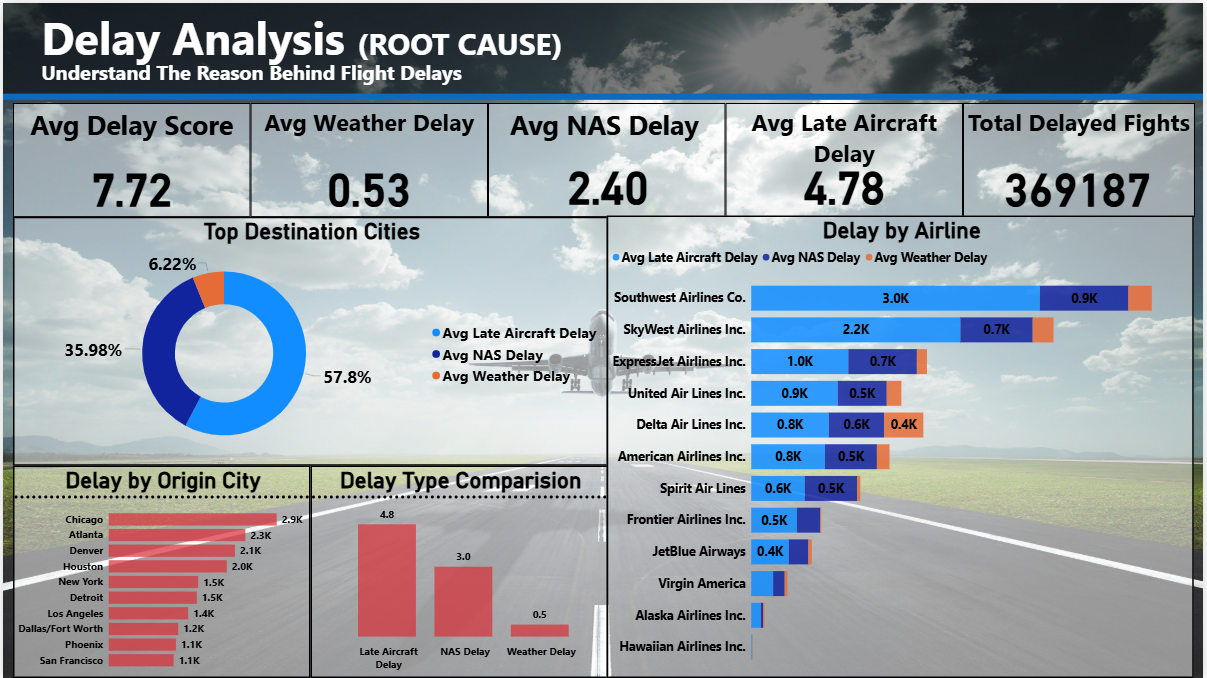

The dashboard page shown, as its layout file describes it:
{"tool":"powerbi","page":{"name":"Delay Analysis (Root Cause)","canvas":[1920,1080],"ordinal":3},"visuals":[{"type":"textbox","box":[0,0,1920,148],"z":0},{"type":"shape","box":[0,139.3,1920.1,19.9],"z":1000},{"type":"textbox","box":[56.1,0,1027.9,117.6],"z":2000},{"type":"actionButton","box":[16.3,159.3,380,182.8],"z":3000},{"type":"textbox","box":[16.3,159.3,380,74.2],"z":4000},{"type":"card","fields":{"Values":["Avg(airline vw_flight_analysis.Delay Score (Overall))"]},"box":[16.3,233.4,380,108.6],"z":5000},{"type":"textbox","box":[56.1,83.2,1080.4,65.1],"z":6000},{"type":"clusteredBarChart","title":"Delay by Origin City","fields":{"Category":["airline vw_flight_analysis.OriginCity"],"Y":["Sum(airline vw_flight_analysis.Delay Score (Overall))"]},"box":[16.3,740.2,475.9,340.2],"z":7000},{"type":"clusteredColumnChart","title":"Delay Type Comparision","fields":{"Category":["DelayTypeTable.DelayType"],"Y":["DelayTypeTable.Delay Value"]},"box":[492.2,740.2,475.9,340.2],"z":8000},{"type":"actionButton","box":[1536.4,159.3,371,182.8],"z":11000},{"type":"actionButton","box":[1156.4,159.3,380,182.8],"z":12000},{"type":"actionButton","box":[776.3,159.3,380,182.8],"z":13000},{"type":"actionButton","box":[396.3,159.3,380,182.8],"z":14000},{"type":"textbox","box":[1536.4,159.3,371,110.4],"z":15000},{"type":"textbox","box":[778.2,159.3,380,74.2],"z":16000},{"type":"textbox","box":[1156.4,159.3,380,110.4],"z":17000},{"type":"textbox","box":[396.3,159.3,380,74.2],"z":18000},{"type":"card","fields":{"Values":["Sum(airline vw_flight_analysis.TotalFlights)"]},"box":[1532.8,233.4,374.6,108.6],"z":18001},{"type":"card","fields":{"Values":["Avg(airline vw_flight_analysis.AvgLateAircraftDelay)"]},"box":[1156.4,231.6,380,108.6],"z":18002},{"type":"card","fields":{"Values":["Avg(airline vw_flight_analysis.AvgNASDelay)"]},"box":[778.2,231.6,380,108.6],"z":18003},{"type":"card","fields":{"Values":["Avg(airline vw_flight_analysis.AvgWeatherDelay)"]},"box":[396.3,233.4,380,108.6],"z":18004},{"type":"donutChart","title":"Top Destination Cities","fields":{"Y":["Sum(airline vw_flight_analysis.AvgLateAircraftDelay)","Sum(airline vw_flight_analysis.AvgNASDelay)","Sum(airline vw_flight_analysis.AvgWeatherDelay)"]},"box":[16.3,342,951.9,398.1],"z":18005},{"type":"barChart","title":"Delay by Airline","fields":{"Y":["Sum(airline vw_flight_analysis.AvgLateAircraftDelay)","Sum(airline vw_flight_analysis.AvgNASDelay)","Sum(airline vw_flight_analysis.AvgWeatherDelay)"],"Category":["airline vw_flight_analysis.AirlineName"]},"box":[966.4,340.2,939.2,740.2],"z":18006}]}

Visuals, with their boxes in screenshot pixels (x1, y1, x2, y2), scaled from the page's 1920x1080 canvas onto the 1207x678 screenshot:
textbox: <bbox>0, 0, 1206, 93</bbox>
shape: <bbox>0, 87, 1206, 100</bbox>
textbox: <bbox>35, 0, 681, 74</bbox>
actionButton: <bbox>10, 100, 249, 215</bbox>
textbox: <bbox>10, 100, 249, 147</bbox>
card - Avg(airline vw_flight_analysis.Delay Score (Overall)): <bbox>10, 147, 249, 215</bbox>
textbox: <bbox>35, 52, 714, 93</bbox>
"Delay by Origin City" clusteredBarChart: <bbox>10, 465, 309, 677</bbox>
"Delay Type Comparision" clusteredColumnChart: <bbox>309, 465, 609, 677</bbox>
actionButton: <bbox>966, 100, 1199, 215</bbox>
actionButton: <bbox>727, 100, 966, 215</bbox>
actionButton: <bbox>488, 100, 727, 215</bbox>
actionButton: <bbox>249, 100, 488, 215</bbox>
textbox: <bbox>966, 100, 1199, 169</bbox>
textbox: <bbox>489, 100, 728, 147</bbox>
textbox: <bbox>727, 100, 966, 169</bbox>
textbox: <bbox>249, 100, 488, 147</bbox>
card - Sum(airline vw_flight_analysis.TotalFlights): <bbox>964, 147, 1199, 215</bbox>
card - Avg(airline vw_flight_analysis.AvgLateAircraftDelay): <bbox>727, 145, 966, 214</bbox>
card - Avg(airline vw_flight_analysis.AvgNASDelay): <bbox>489, 145, 728, 214</bbox>
card - Avg(airline vw_flight_analysis.AvgWeatherDelay): <bbox>249, 147, 488, 215</bbox>
"Top Destination Cities" donutChart: <bbox>10, 215, 609, 465</bbox>
"Delay by Airline" barChart: <bbox>608, 214, 1198, 677</bbox>
